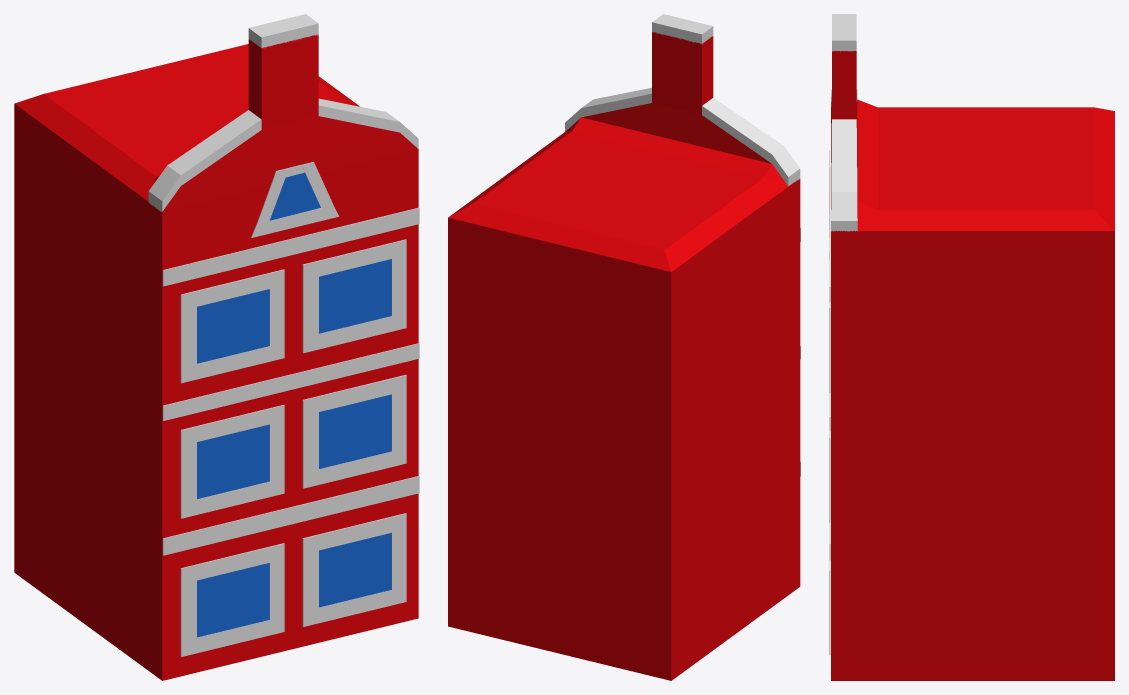
Rendered from House 7.fbx.
The picture shows the model from 3 angles, left to right: view 1: azimuth 30°, elevation 25°; view 2: azimuth 150°, elevation 25°; view 3: azimuth 270°, elevation 25°; orthographic projection. The views are drawn at different scales.
Parts seen in each view (by area): view 1: House 7, House 7 Details, House 7 Windows; view 2: House 7, House 7 Details; view 3: House 7, House 7 Details.
Part boxes in pixels (x1=…): House 7: x1=14, y1=34, x2=418, y2=680; House 7 Details: x1=148, y1=14, x2=419, y2=656; House 7 Windows: x1=197, y1=172, x2=391, y2=637; House 7: x1=448, y1=32, x2=800, y2=680; House 7 Details: x1=565, y1=14, x2=800, y2=476; House 7: x1=831, y1=51, x2=1114, y2=680; House 7 Details: x1=829, y1=14, x2=857, y2=655.
Bounding box in the file's own units: 200 × 461 × 201.
